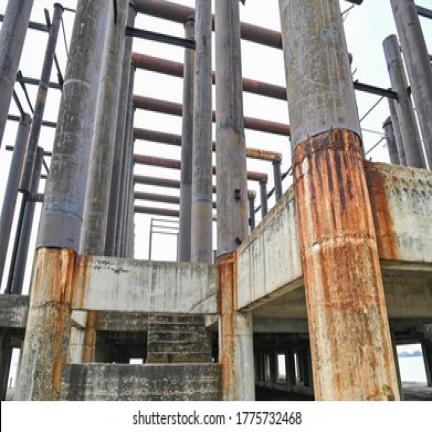karat: (292, 128, 401, 401), (14, 248, 77, 400), (366, 159, 404, 258), (216, 252, 234, 402)
